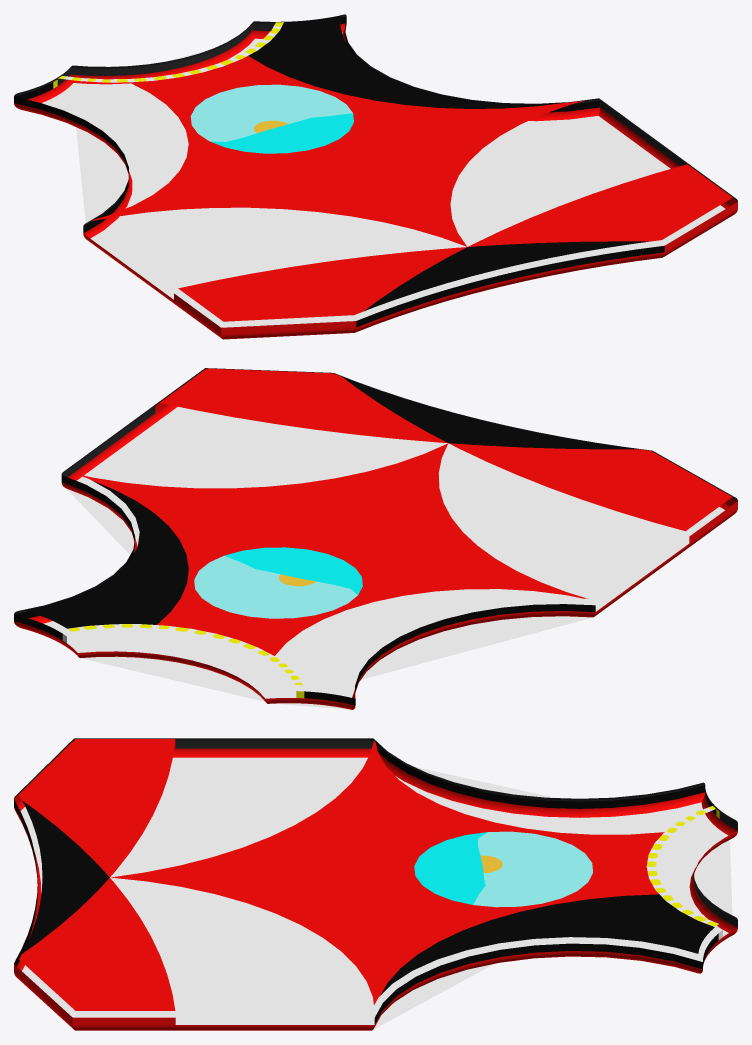
Rendered from life-vest.fbx.
3 renders of one model, top to bottom at view 1: azimuth 30°, elevation 25°; view 2: azimuth 150°, elevation 25°; view 3: azimuth 270°, elevation 25°, orthographic. The views are drawn at different scales.
Parts seen in each view (by area): view 1: Model; view 2: Model; view 3: Model.
Part boxes in pixels (x1,y1,x2,y2): Model: (14, 14, 737, 339); Model: (14, 368, 737, 709); Model: (14, 738, 737, 1030).
Size of the model in its own units: 1631 by 52.44 by 1806.
